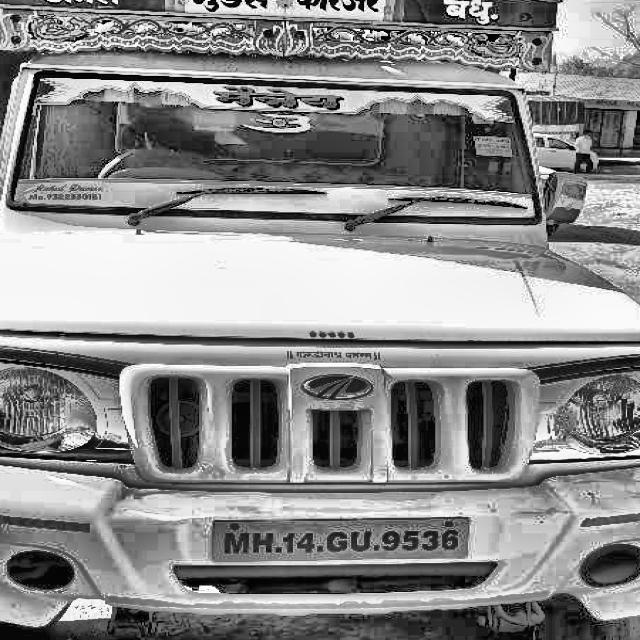light_vehicle: (0, 14, 640, 623)
